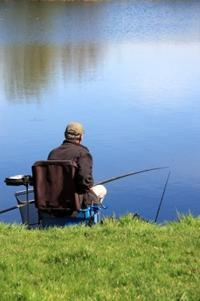person without safety: (45, 120, 97, 196)
